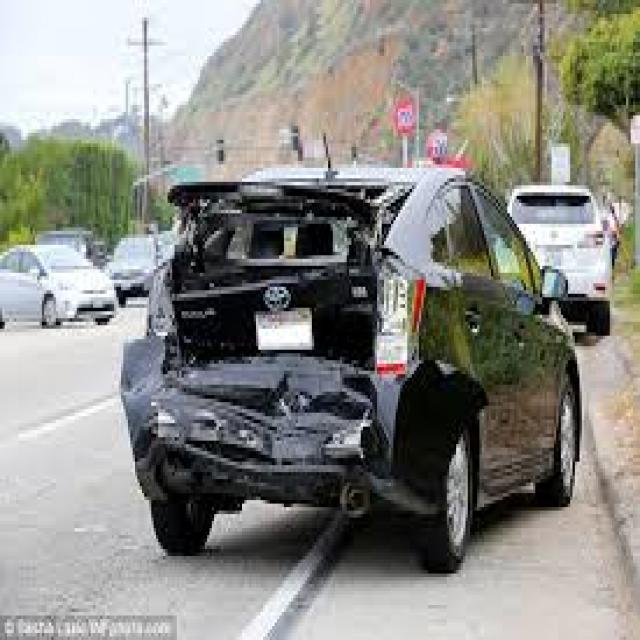severe: (127, 137, 444, 520)
